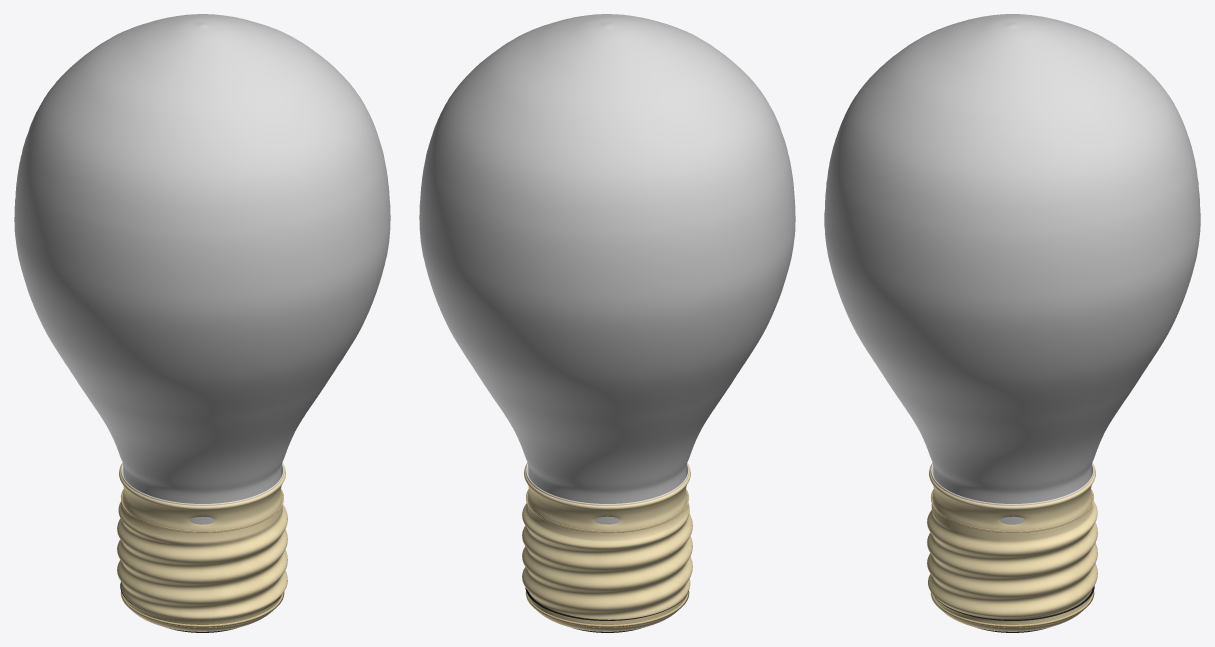
File: bulb.glb
3 views of the same model, side by side, from view 1: azimuth 30°, elevation 25°; view 2: azimuth 150°, elevation 25°; view 3: azimuth 270°, elevation 25° (orthographic).
Parts seen in each view (by area): view 1: Envelope, Cap; view 2: Envelope, Cap; view 3: Envelope, Cap.
Part boxes in pixels (bbox=[...]): Envelope: bbox=[14, 14, 390, 524]; Cap: bbox=[117, 463, 287, 631]; Envelope: bbox=[419, 14, 795, 524]; Cap: bbox=[522, 463, 692, 631]; Envelope: bbox=[824, 14, 1200, 524]; Cap: bbox=[927, 463, 1097, 631].
Bounding box in the file's own units: 60.12 × 106 × 60.12.
9 materials, 1 textured.
